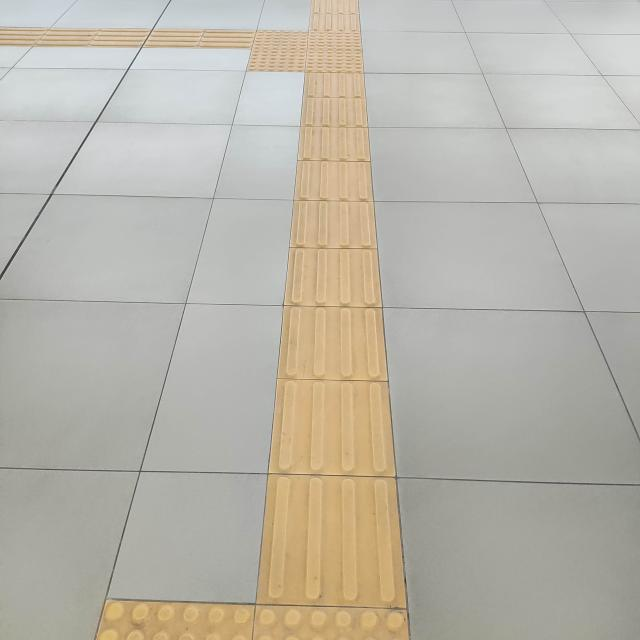lurus: (239, 78, 402, 568)
